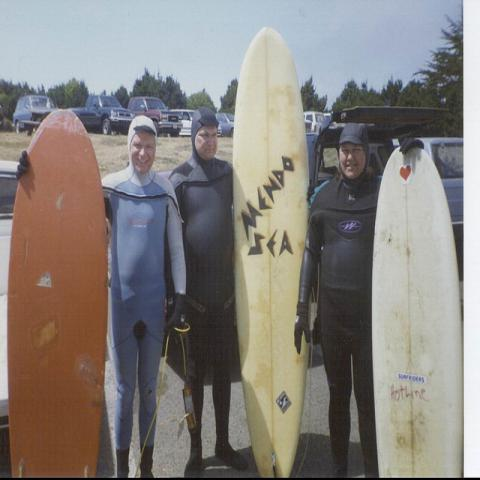car: (417, 137, 463, 223), (127, 97, 182, 138), (12, 95, 55, 133), (170, 108, 222, 137), (22, 110, 55, 132), (301, 110, 326, 133), (214, 114, 234, 137), (304, 118, 313, 132)
truck: (310, 97, 466, 284), (68, 95, 136, 136)
